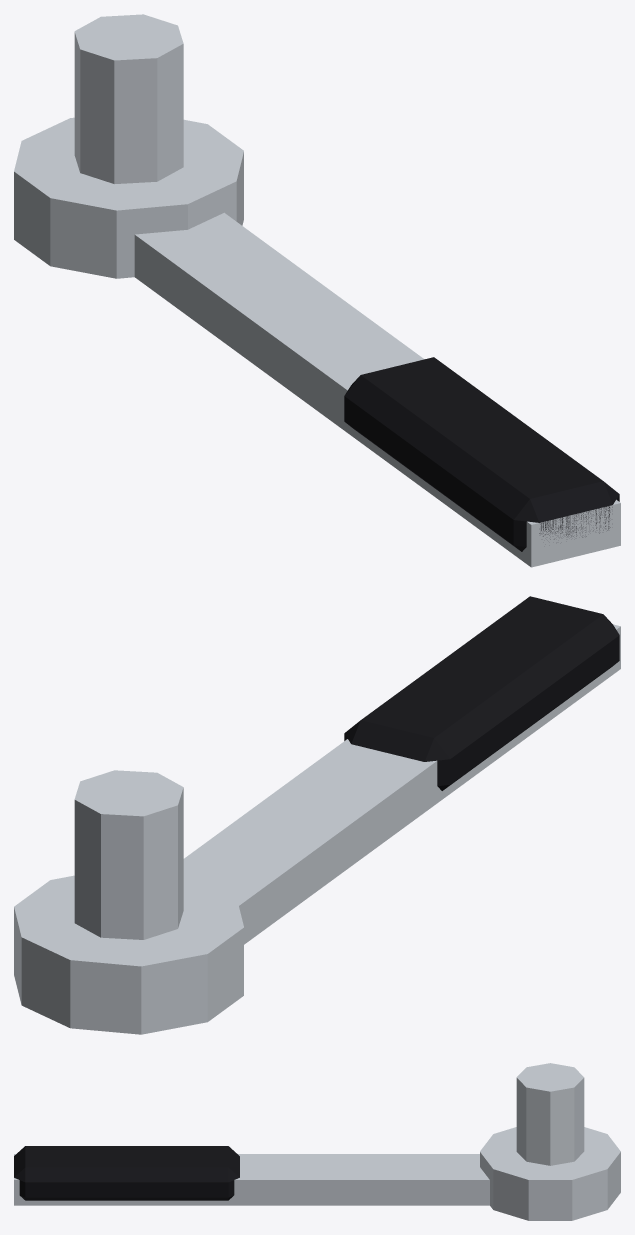
Rendered from Socket_Wrench.fbx.
The picture shows the model from 3 angles, top to bottom: view 1: azimuth 30°, elevation 25°; view 2: azimuth 150°, elevation 25°; view 3: azimuth 270°, elevation 25°; orthographic projection. The views are drawn at different scales.
Visible parts, largest first — view 1: Socket_Wrench; view 2: Socket_Wrench; view 3: Socket_Wrench.
Boxes of the visible parts, <box> form: Socket_Wrench: <box>14,14,620,567</box>; Socket_Wrench: <box>14,596,620,1034</box>; Socket_Wrench: <box>14,1063,620,1220</box>.
Bounding box in the file's own units: 0.0476 × 0.045 × 0.215.
Materials: 1 (1 with a texture image).
